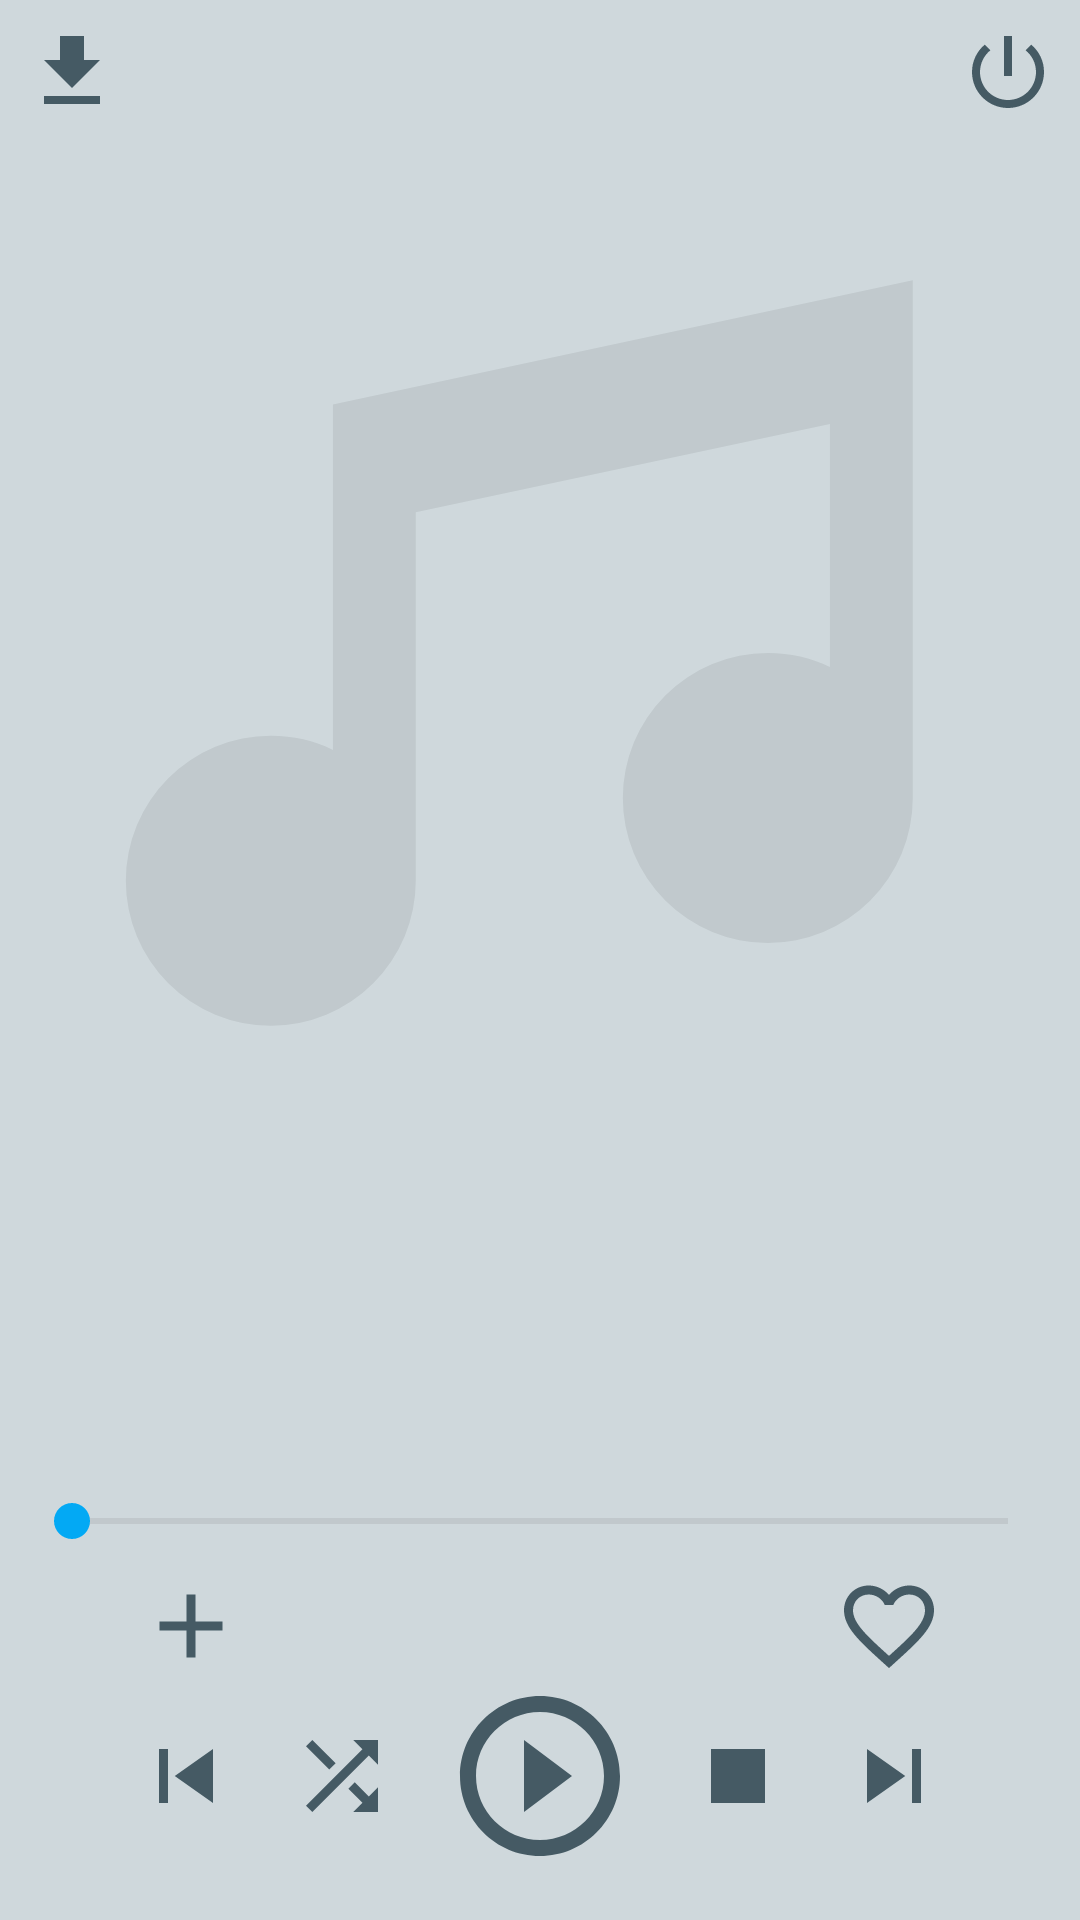

Icon bounding boxes for this 1080px x 1920px phone screenshot, format box(x1, y1, x2, y2):
Add to Playlist: box(159, 1594, 223, 1658)
Download song: box(44, 36, 100, 104)
Favorite: box(844, 1585, 934, 1668)
Next: box(867, 1749, 921, 1803)
Play/Pause: box(460, 1696, 620, 1856)
Playback Mode: box(306, 1740, 378, 1812)
Previous: box(159, 1749, 213, 1803)
Shutdown Player: box(972, 36, 1044, 108)
